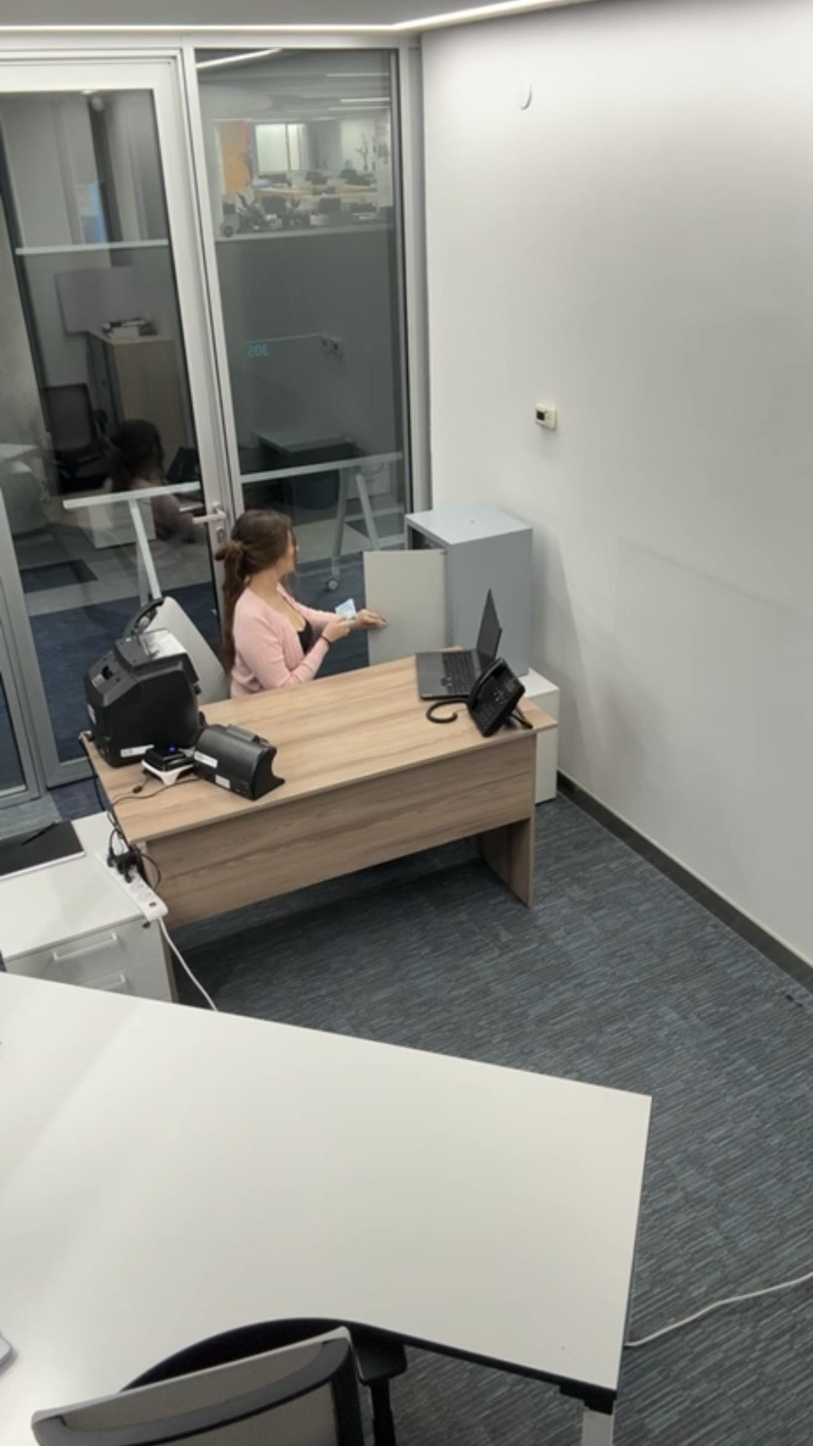cash_stack: (331, 596, 365, 633)
counter: (74, 628, 216, 770)
uv_lamp: (193, 717, 292, 805)
